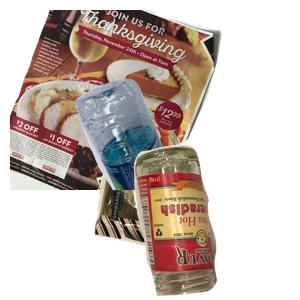glass: (131, 142, 300, 300)
paper: (10, 10, 224, 190)
plastic: (73, 76, 300, 256)
trash: (92, 158, 277, 300)
